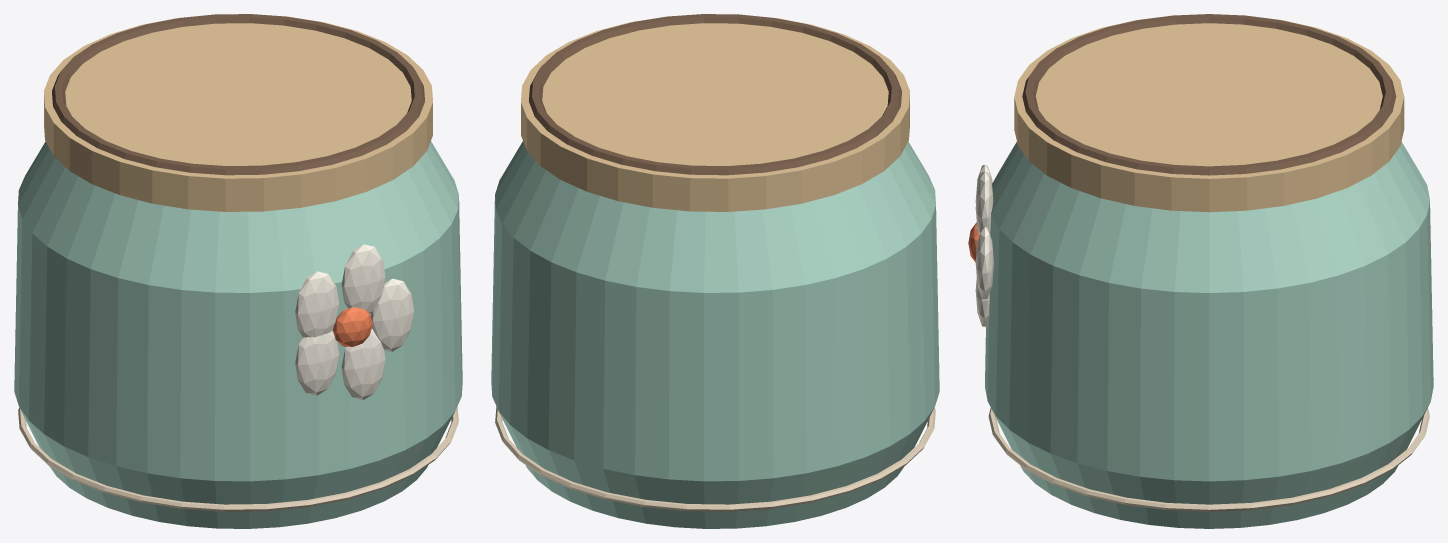
Rendered from tea_mizusashi.glb.
3 views of the same model, side by side, from view 1: azimuth 30°, elevation 25°; view 2: azimuth 150°, elevation 25°; view 3: azimuth 270°, elevation 25° (orthographic).
Visible parts, largest first — view 1: Celadon water jar, Flat hinoki lid, Lid edge, Raised glaze ring, Stamped porcelain medallion_petal01, Stamped porcelain medallion_petal02, Stamped porcelain medallion_petal00, Stamped porcelain medallion_petal03, Stamped porcelain medallion_petal04, Stamped porcelain medallion_center; view 2: Celadon water jar, Flat hinoki lid, Lid edge, Raised glaze ring; view 3: Celadon water jar, Flat hinoki lid, Lid edge, Raised glaze ring, Stamped porcelain medallion_petal00, Stamped porcelain medallion_petal01.
Part boxes in pixels (x1,y1,x2,y2): Celadon water jar: (14, 141, 462, 528); Flat hinoki lid: (44, 16, 432, 211); Lid edge: (52, 14, 424, 175); Raised glaze ring: (18, 406, 458, 511); Stamped porcelain medallion_petal01: (341, 244, 385, 313); Stamped porcelain medallion_petal02: (295, 271, 339, 337); Stamped porcelain medallion_petal00: (371, 278, 414, 351); Stamped porcelain medallion_petal03: (295, 330, 339, 395); Stamped porcelain medallion_petal04: (341, 329, 385, 399); Stamped porcelain medallion_center: (333, 307, 372, 346); Celadon water jar: (491, 141, 939, 528); Flat hinoki lid: (521, 16, 909, 211); Lid edge: (529, 14, 901, 175); Raised glaze ring: (495, 406, 935, 511); Celadon water jar: (985, 141, 1433, 528); Flat hinoki lid: (1014, 15, 1404, 212); Lid edge: (1022, 14, 1396, 175); Raised glaze ring: (988, 408, 1429, 511); Stamped porcelain medallion_petal00: (975, 227, 993, 299); Stamped porcelain medallion_petal01: (975, 171, 993, 235).
Size of the model in its own units: 1.88 by 1.73 by 1.95.
